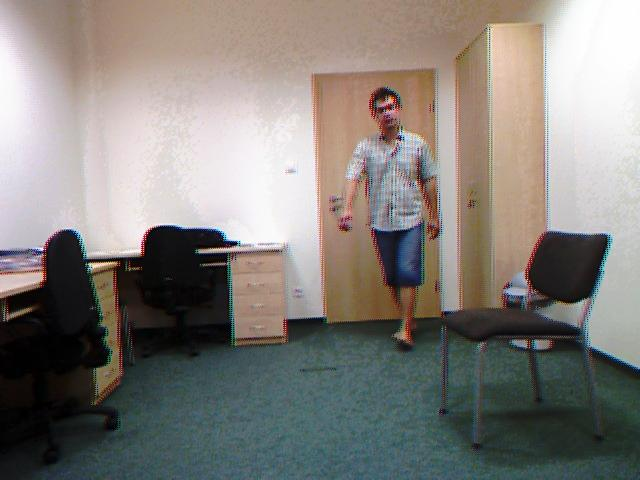standing: (335, 85, 454, 362)
